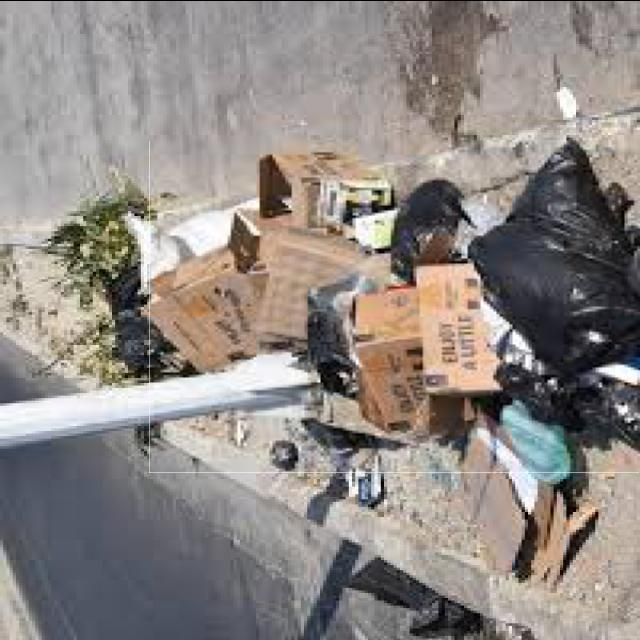Trashbag: (468, 230, 638, 372), (505, 149, 640, 247), (308, 273, 366, 400), (394, 172, 468, 268)
